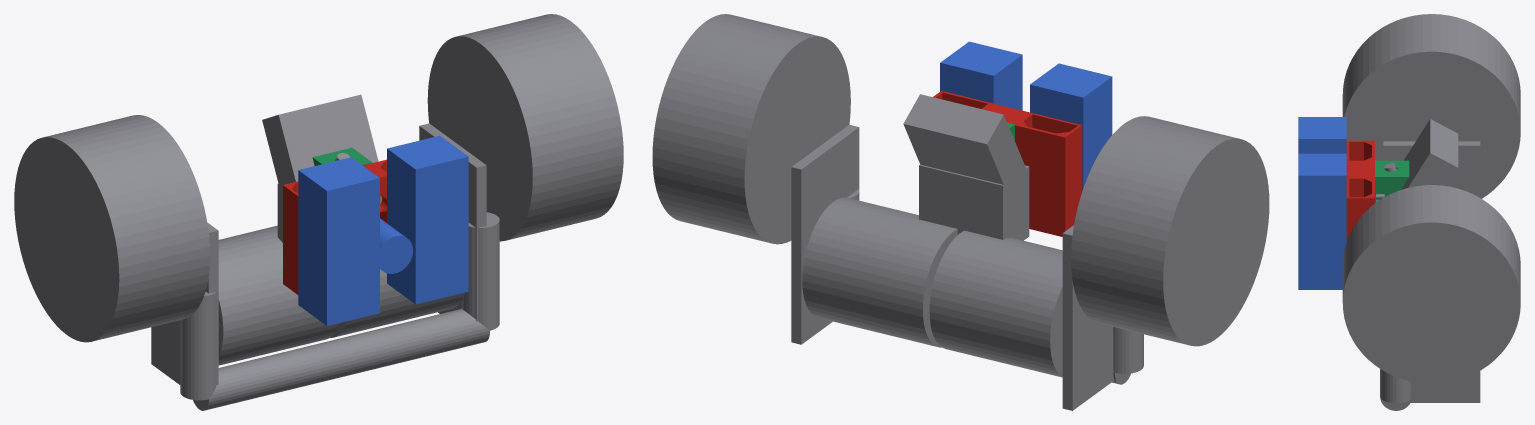
The model's file is rear_assembly_r2.obj.
3 renders of one model, left to right at view 1: azimuth 30°, elevation 25°; view 2: azimuth 150°, elevation 25°; view 3: azimuth 270°, elevation 25°, orthographic. The views are drawn at different scales.
Visible parts, largest first — view 1: wheels_schematic, bar_c_schematic, light_placeholder_1, motors_schematic, light_placeholder_0, rear_hanger_schematic, light_bar, charging_plug_column; view 2: wheels_schematic, motors_schematic, rear_hanger_schematic, light_bar, light_placeholder_1, light_placeholder_0, bar_c_schematic; view 3: wheels_schematic, light_placeholder_0, rear_hanger_schematic, light_bar, light_placeholder_1, bar_c_schematic, shoe.
Part boxes in pixels (x1,y1,x2,y2): wheels_schematic: (14,14,623,342); bar_c_schematic: (180,212,499,410); light_placeholder_1: (298,157,379,325); motors_schematic: (218,225,465,365); light_placeholder_0: (387,135,468,304); rear_hanger_schematic: (151,94,486,384); light_bar: (283,159,386,294); charging_plug_column: (380,218,412,273); wheels_schematic: (652,14,1269,346); motors_schematic: (802,197,1062,377); rear_hanger_schematic: (791,94,1114,410); light_bar: (933,91,1082,236); light_placeholder_1: (1030,63,1112,190); light_placeholder_0: (940,41,1022,110); bar_c_schematic: (847,189,1143,384); wheels_schematic: (1342,14,1520,383); light_placeholder_0: (1298,153,1346,289); rear_hanger_schematic: (1383,119,1480,402); light_bar: (1346,140,1374,241); light_placeholder_1: (1298,117,1346,153); bar_c_schematic: (1380,369,1412,410); shoe: (1375,160,1409,202).
Bounding box in the file's own units: 305 × 160 × 138.
